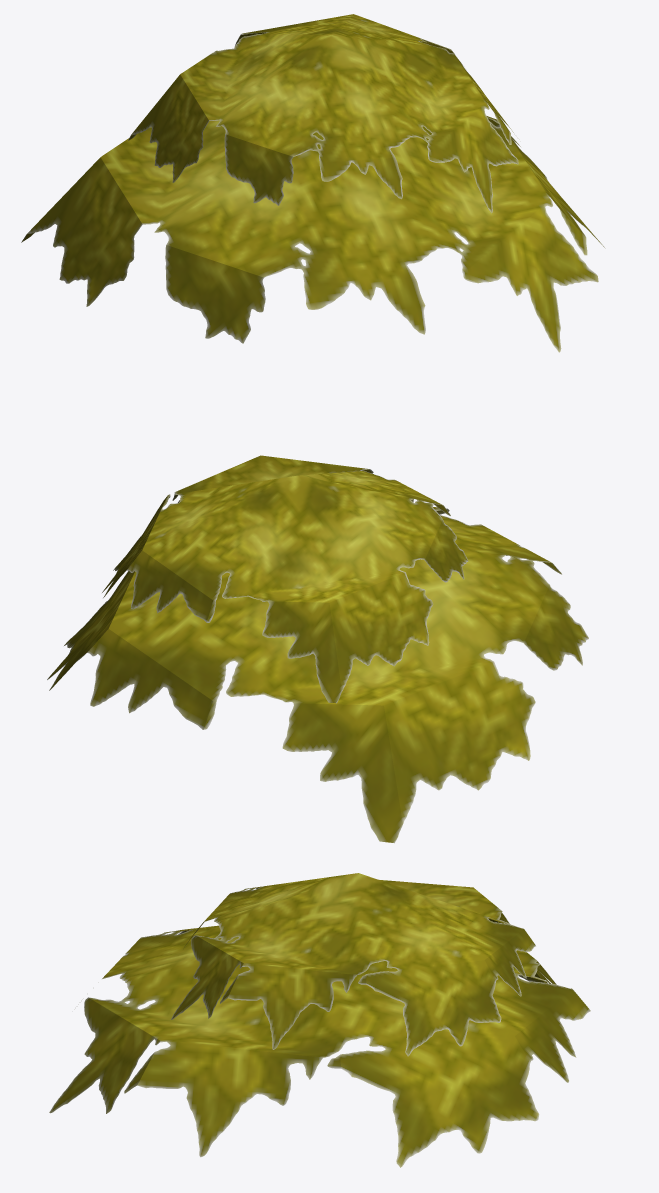
Rendered from Bush_001.fbx.
3 renders of one model, top to bottom at view 1: azimuth 30°, elevation 25°; view 2: azimuth 150°, elevation 25°; view 3: azimuth 270°, elevation 25°, orthographic. The views are drawn at different scales.
Visible parts, largest first — view 1: Plane587; view 2: Plane587; view 3: Plane587.
Boxes of the visible parts, box(x1,y1,x2,y2) form: Plane587: box(21, 14, 605, 352); Plane587: box(47, 455, 588, 843); Plane587: box(49, 873, 590, 1167).
Bounding box in the file's own units: 169 × 79.35 × 197.
